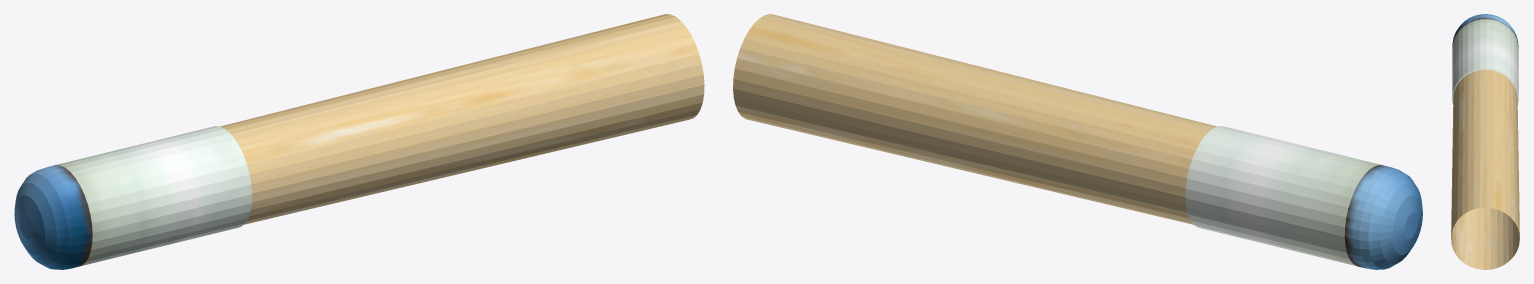
Rendered from cue.glb.
3 renders of one model, left to right at view 1: azimuth 30°, elevation 25°; view 2: azimuth 150°, elevation 25°; view 3: azimuth 270°, elevation 25°, orthographic. The views are drawn at different scales.
Parts seen in each view (by area): view 1: Cylinder; view 2: Cylinder; view 3: Cylinder.
Boxes of the visible parts, x1,y1,x2,y2 form: Cylinder: (14, 14, 704, 269); Cylinder: (733, 14, 1422, 269); Cylinder: (1451, 14, 1519, 269).
Bounding box in the file's own units: 0.1 × 0.0144 × 0.0144.
1 material, 1 textured.
